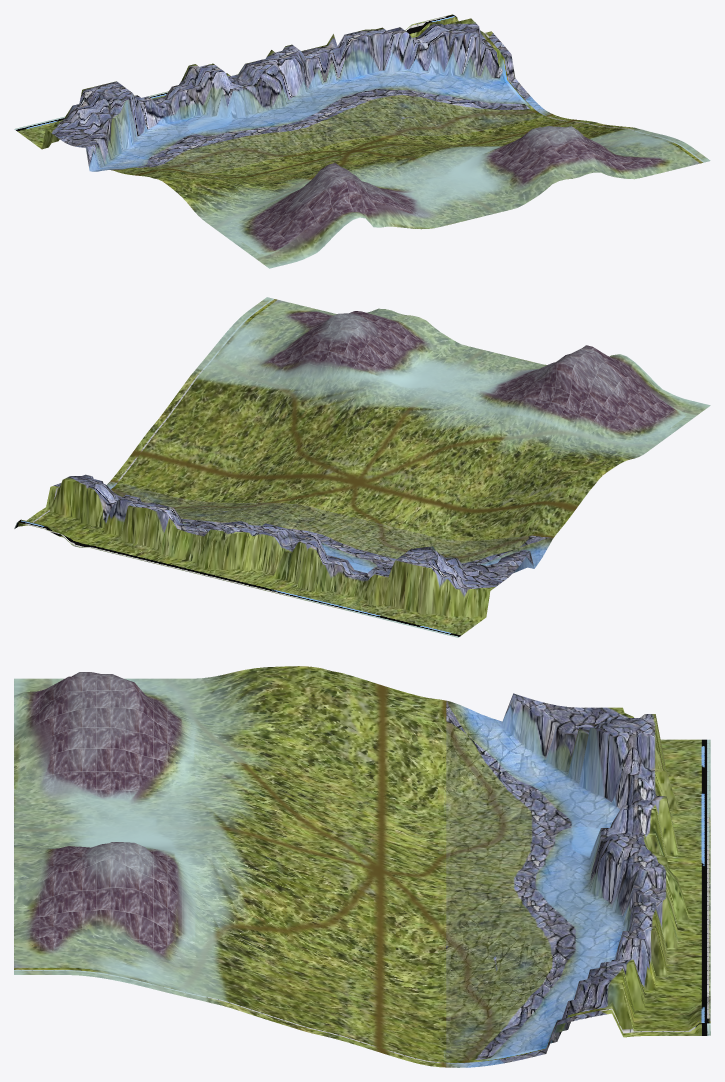
The model's file is outsideWorld.fbx.
The picture shows the model from 3 angles, top to bottom: view 1: azimuth 30°, elevation 25°; view 2: azimuth 150°, elevation 25°; view 3: azimuth 270°, elevation 25°; orthographic projection. The views are drawn at different scales.
Parts seen in each view (by area): view 1: Plane; view 2: Plane; view 3: Plane.
Part boxes in pixels (x1,y1,x2,y2): Plane: [14, 14, 710, 268]; Plane: [14, 297, 710, 637]; Plane: [14, 666, 710, 1067].
Size of the model in its own units: 14.06 by 3.56 by 13.91.
